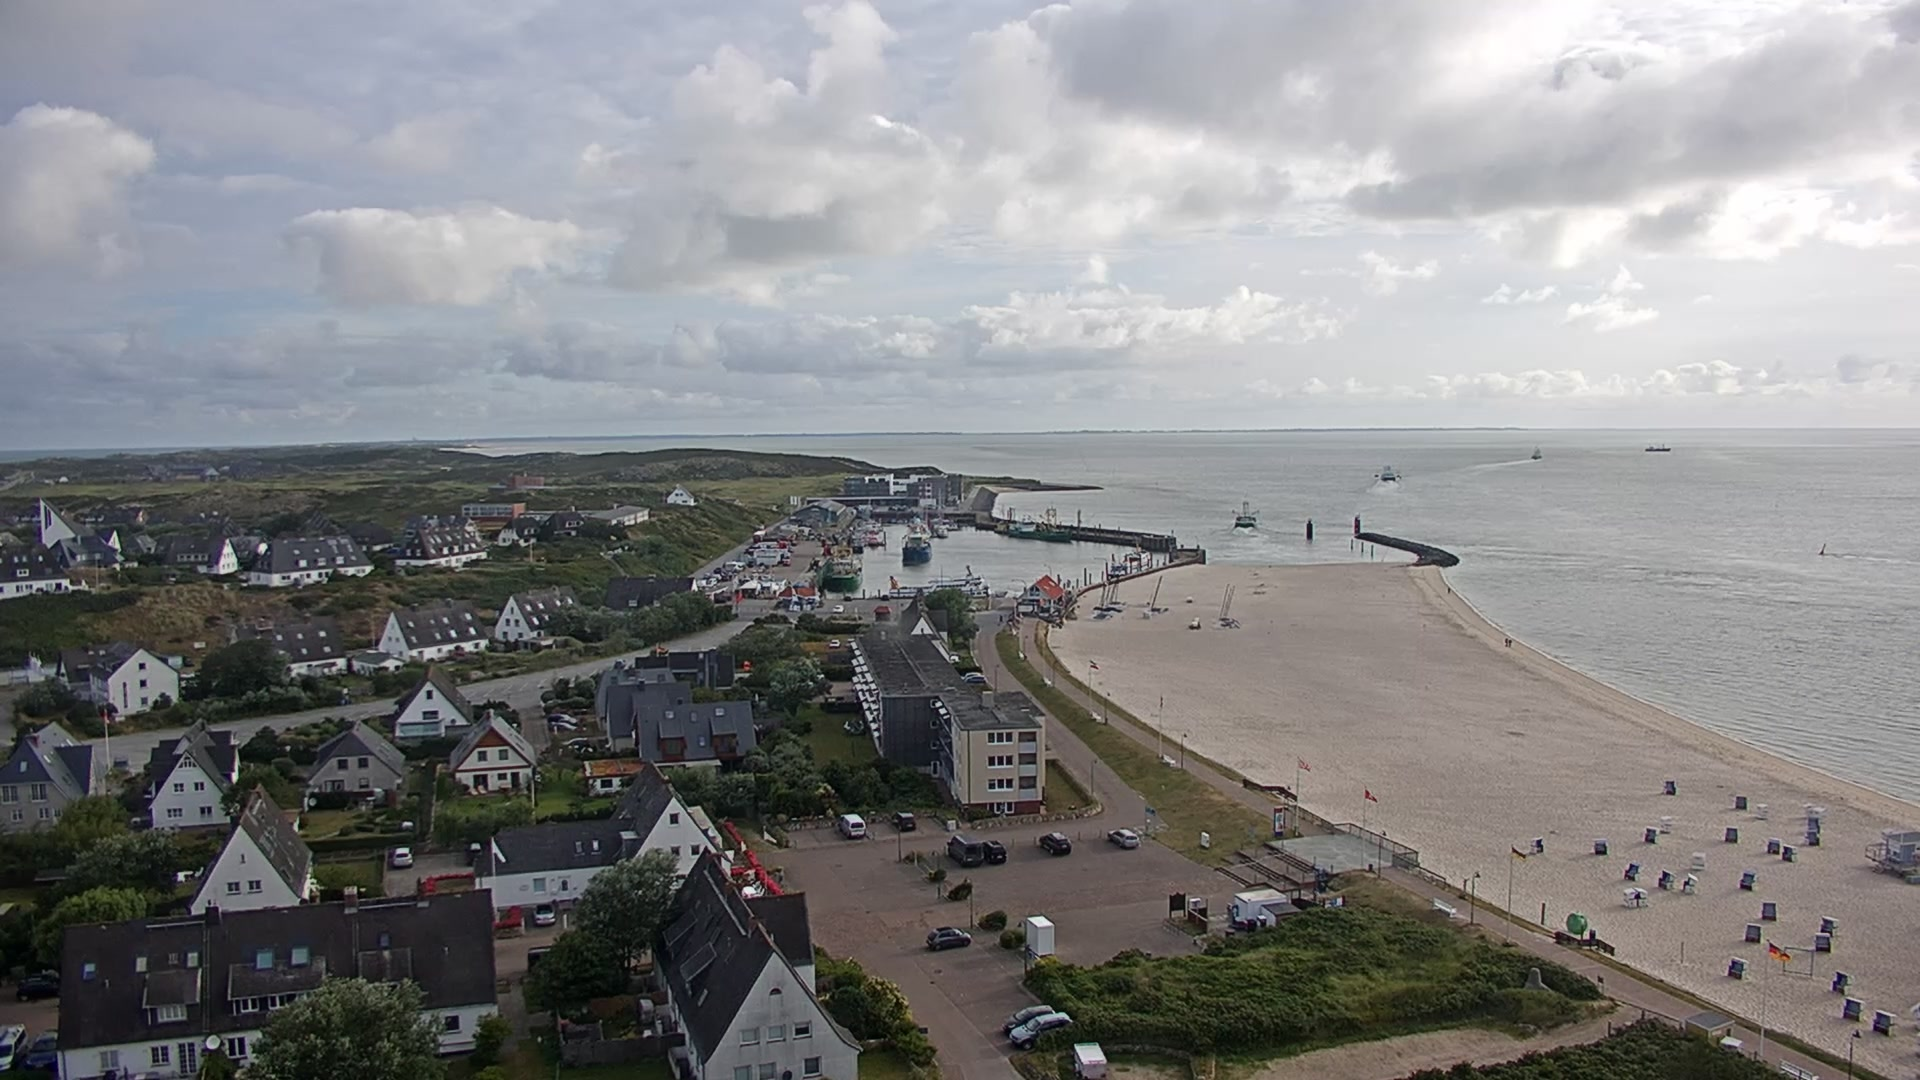human: (998, 614, 1003, 625), (1508, 637, 1512, 647), (1504, 637, 1508, 646), (1447, 586, 1451, 594)
land: (1008, 1010, 1070, 1051), (999, 1005, 1052, 1035), (25, 1029, 60, 1072), (16, 966, 59, 1001), (1, 1022, 28, 1074), (947, 833, 984, 868), (926, 925, 972, 950), (1039, 832, 1072, 857), (1107, 828, 1140, 850), (837, 812, 865, 839), (981, 839, 1006, 864), (889, 810, 916, 831), (532, 902, 555, 926), (391, 846, 412, 868), (465, 841, 482, 863), (547, 712, 576, 723), (548, 721, 576, 732), (564, 736, 588, 748), (966, 675, 984, 683), (962, 671, 981, 678), (832, 605, 844, 614), (829, 640, 840, 648), (881, 594, 889, 601), (843, 595, 851, 601)
sea: (887, 562, 1007, 600), (1007, 505, 1072, 541), (821, 549, 862, 590), (1106, 544, 1152, 579), (902, 533, 931, 564), (1232, 500, 1260, 527), (1373, 463, 1400, 480), (1643, 441, 1670, 451), (1530, 444, 1542, 459)
